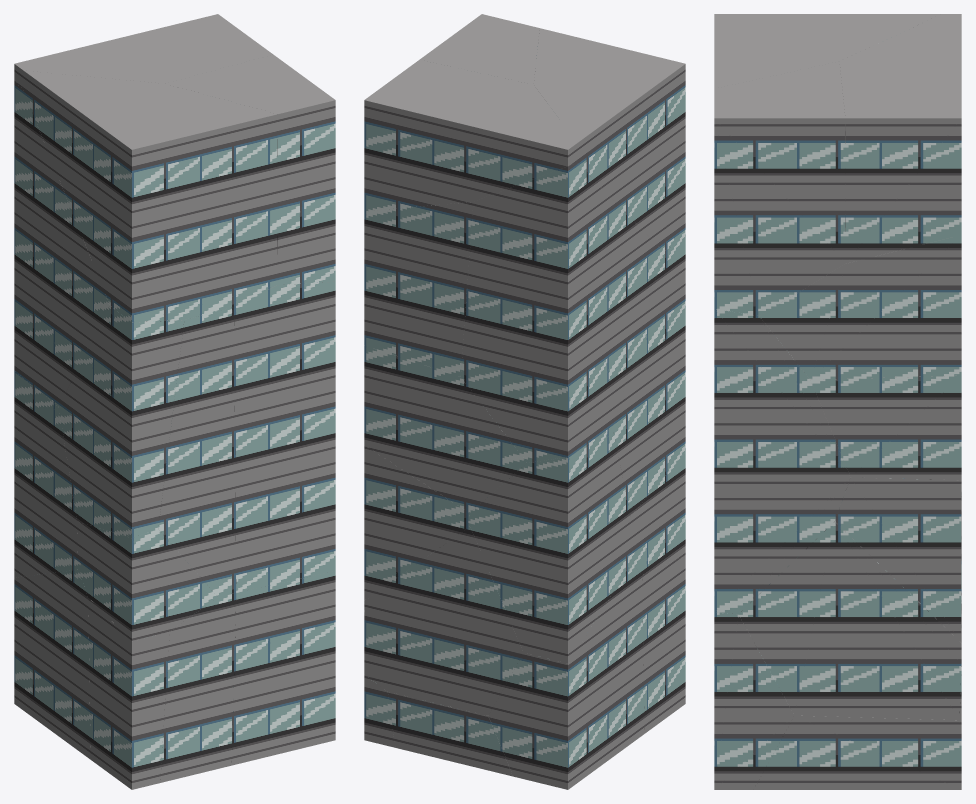
The model's file is Building_3x3x9.fbx.
3 views of the same model, side by side, from view 1: azimuth 30°, elevation 25°; view 2: azimuth 150°, elevation 25°; view 3: azimuth 270°, elevation 25° (orthographic). The views are drawn at different scales.
Visible parts, largest first — view 1: Build_3x3x9.001_cell.019, Build_3x3x9.001_cell.016, Build_3x3x9.001_cell.006, Build_3x3x9.001_cell.002, Build_3x3x9.001_cell.017, Build_3x3x9.001_cell, Build_3x3x9.001_cell.018, Build_3x3x9.001_cell.004, Build_3x3x9.001_cell.005, Build_3x3x9.001_cell.001, Build_3x3x9.001_cell.011, Build_3x3x9.001_cell.008 (+1 smaller); view 2: Build_3x3x9.001_cell.002, Build_3x3x9.001_cell.008, Build_3x3x9.001_cell.015, Build_3x3x9.001_cell.019, Build_3x3x9.001_cell.004, Build_3x3x9.001_cell.009, Build_3x3x9.001_cell.003, Build_3x3x9.001_cell.014, Build_3x3x9.001_cell.006, Build_3x3x9.001_cell.013, Build_3x3x9.001_cell.005, Build_3x3x9.001_cell.012 (+3 smaller); view 3: Build_3x3x9.001_cell.018, Build_3x3x9.001_cell.007, Build_3x3x9.001_cell.016, Build_3x3x9.001_cell.015, Build_3x3x9.001_cell.003, Build_3x3x9.001_cell.010, Build_3x3x9.001_cell.014, Build_3x3x9.001_cell.013, Build_3x3x9.001_cell.019, Build_3x3x9.001_cell.017.
Part boxes in pixels (x1,y1,x2,y2): Build_3x3x9.001_cell.019: [23, 70, 277, 322]; Build_3x3x9.001_cell.016: [234, 281, 335, 592]; Build_3x3x9.001_cell.006: [58, 305, 184, 537]; Build_3x3x9.001_cell.002: [14, 80, 109, 406]; Build_3x3x9.001_cell.017: [231, 571, 335, 765]; Build_3x3x9.001_cell: [158, 307, 236, 596]; Build_3x3x9.001_cell.018: [165, 54, 335, 285]; Build_3x3x9.001_cell.004: [14, 569, 90, 759]; Build_3x3x9.001_cell.005: [88, 597, 169, 789]; Build_3x3x9.001_cell.001: [160, 592, 236, 782]; Build_3x3x9.001_cell.011: [77, 521, 217, 641]; Build_3x3x9.001_cell.008: [14, 371, 77, 577]; Build_3x3x9.001_cell.002: [460, 163, 663, 462]; Build_3x3x9.001_cell.008: [469, 428, 631, 663]; Build_3x3x9.001_cell.015: [364, 59, 577, 211]; Build_3x3x9.001_cell.019: [533, 28, 685, 251]; Build_3x3x9.001_cell.004: [488, 563, 644, 789]; Build_3x3x9.001_cell.009: [364, 527, 523, 715]; Build_3x3x9.001_cell.003: [364, 202, 473, 376]; Build_3x3x9.001_cell.014: [364, 345, 526, 512]; Build_3x3x9.001_cell.006: [612, 236, 685, 515]; Build_3x3x9.001_cell.013: [364, 445, 469, 600]; Build_3x3x9.001_cell.005: [642, 555, 685, 733]; Build_3x3x9.001_cell.012: [388, 692, 512, 776]; Build_3x3x9.001_cell.018: [714, 61, 845, 315]; Build_3x3x9.001_cell.007: [738, 522, 961, 720]; Build_3x3x9.001_cell.016: [714, 309, 850, 614]; Build_3x3x9.001_cell.015: [839, 14, 961, 263]; Build_3x3x9.001_cell.003: [759, 235, 961, 379]; Build_3x3x9.001_cell.010: [754, 715, 961, 789]; Build_3x3x9.001_cell.014: [810, 375, 961, 480]; Build_3x3x9.001_cell.013: [835, 477, 961, 642]; Build_3x3x9.001_cell.019: [714, 14, 941, 88]; Build_3x3x9.001_cell.017: [714, 612, 794, 789].
Bounding box in the file's own units: 900 × 2700 × 900.
